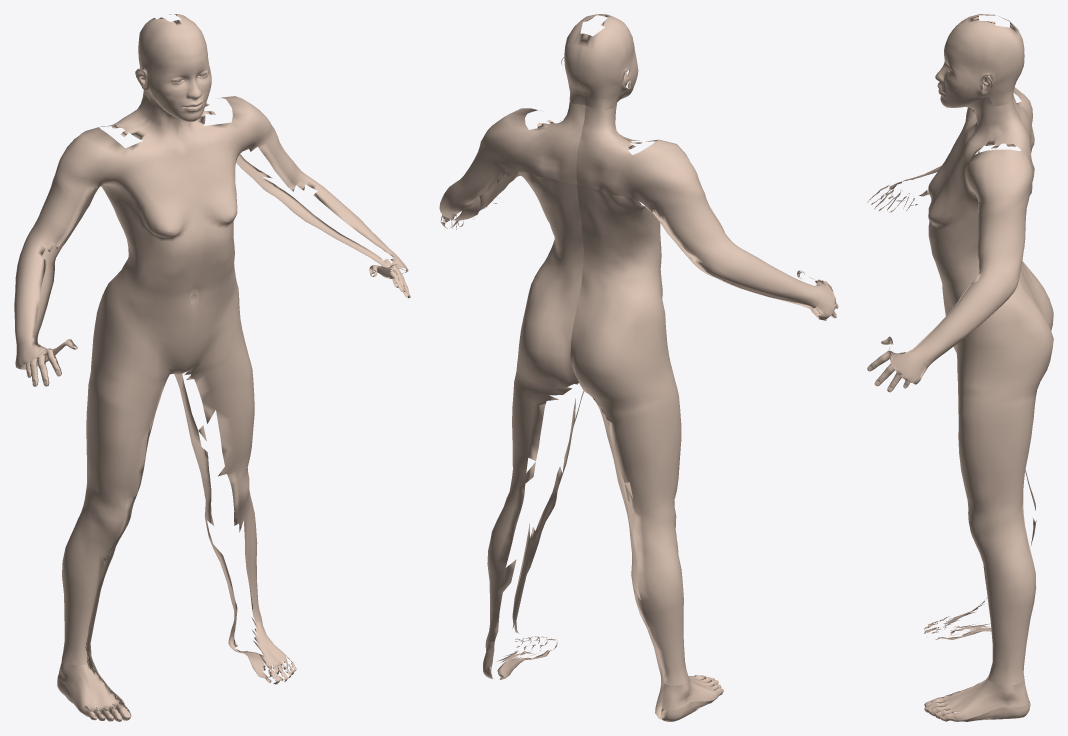
File: inkverse-male.glb
3 renders of one model, left to right at view 1: azimuth 30°, elevation 25°; view 2: azimuth 150°, elevation 25°; view 3: azimuth 270°, elevation 25°, orthographic.
Parts seen in each view (by area): view 1: Body; view 2: Body; view 3: Body.
Boxes of the visible parts, <box> form: Body: <box>14,14,410,721</box>; Body: <box>439,14,838,721</box>; Body: <box>867,14,1053,721</box>.
Bounding box in the file's own units: 1.14 × 1.86 × 0.4785.
